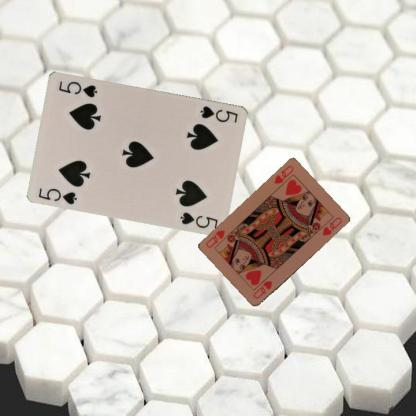5s: (198, 102, 239, 124), (36, 185, 78, 206)
Qh: (250, 278, 275, 300), (272, 163, 294, 185)
